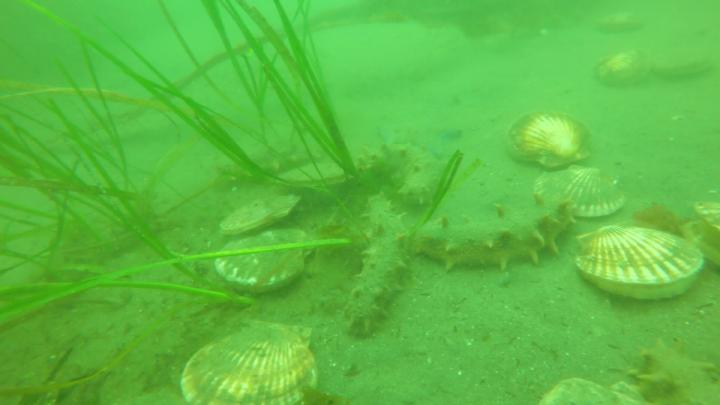holothurian: (416, 200, 577, 276), (337, 195, 411, 338), (361, 131, 452, 215), (626, 337, 720, 405), (215, 151, 302, 183)
scallop: (169, 321, 319, 405), (574, 224, 706, 307), (212, 228, 315, 295), (533, 165, 630, 222), (508, 108, 595, 170), (218, 193, 303, 240), (540, 371, 655, 405), (675, 195, 720, 274), (591, 43, 651, 90), (650, 40, 716, 81), (282, 164, 359, 191), (592, 10, 644, 36)
waterweeds: (1, 2, 361, 343)
